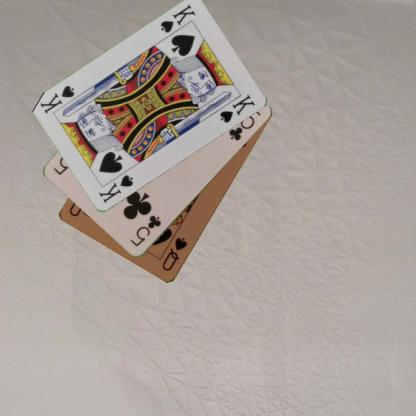5c: (127, 212, 163, 248)
Ks: (95, 172, 135, 205), (158, 2, 196, 34)
Qs: (159, 235, 189, 272)
